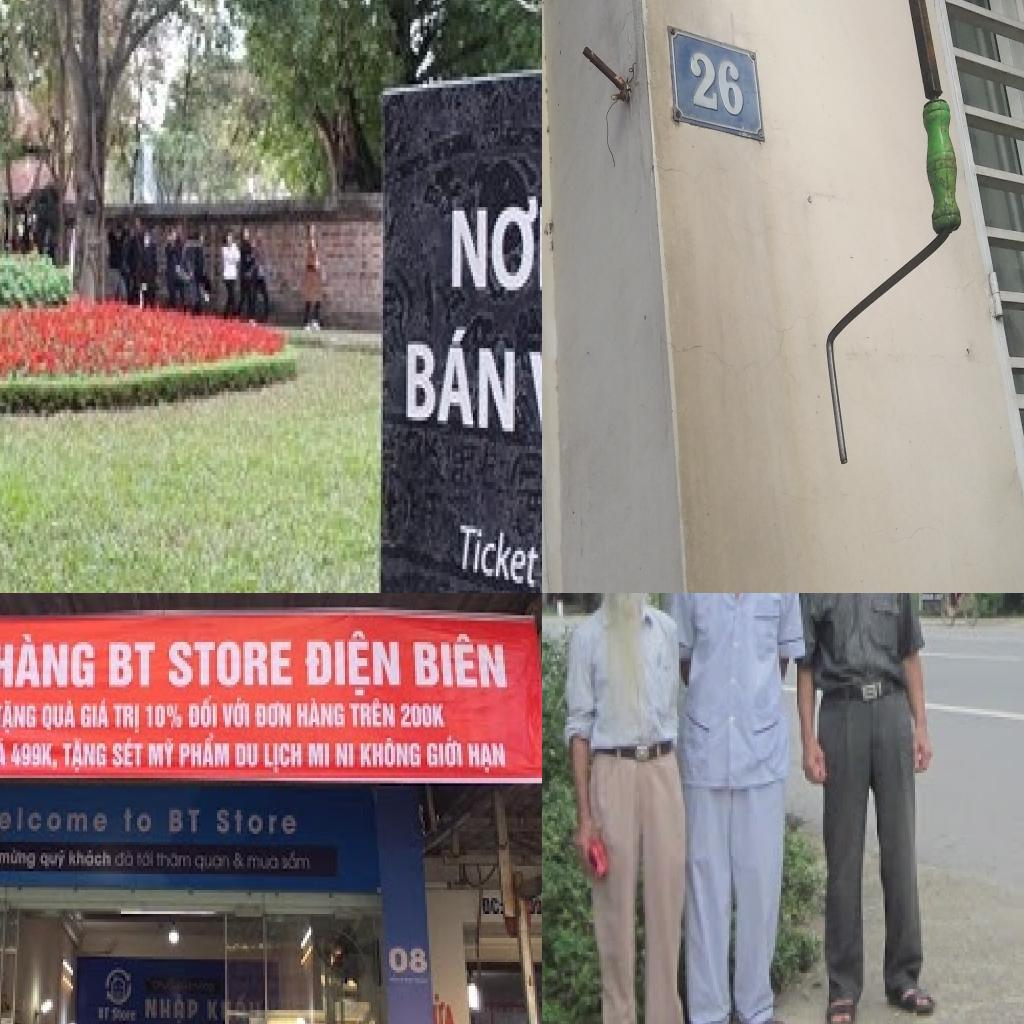text: (402, 312, 521, 439), (446, 189, 542, 301), (165, 634, 299, 695), (301, 621, 403, 698), (411, 626, 511, 695), (0, 626, 99, 692), (0, 801, 111, 839), (103, 637, 161, 695), (213, 805, 303, 839), (357, 735, 425, 773), (177, 733, 233, 775), (59, 735, 111, 778), (293, 695, 349, 733), (347, 695, 401, 733), (9, 738, 63, 775), (143, 991, 201, 1024), (465, 738, 511, 778), (385, 946, 431, 986), (399, 701, 451, 735), (425, 732, 467, 772), (261, 741, 305, 778), (41, 696, 79, 736), (0, 697, 39, 735), (253, 698, 295, 733), (65, 845, 115, 874), (185, 692, 221, 732), (111, 735, 147, 773), (79, 696, 113, 736), (165, 805, 205, 839), (145, 700, 187, 732), (119, 802, 155, 839), (219, 695, 253, 733), (111, 701, 143, 738), (0, 844, 39, 874), (279, 848, 315, 880), (431, 988, 463, 1024), (147, 735, 177, 773), (155, 847, 193, 874), (191, 852, 233, 876), (245, 847, 281, 874), (233, 740, 263, 772), (37, 847, 71, 874), (333, 740, 357, 772), (133, 845, 159, 874), (307, 741, 331, 770), (479, 896, 507, 920), (111, 1005, 141, 1023), (115, 848, 135, 872), (205, 996, 221, 1024), (0, 735, 11, 772), (97, 1004, 113, 1024)
